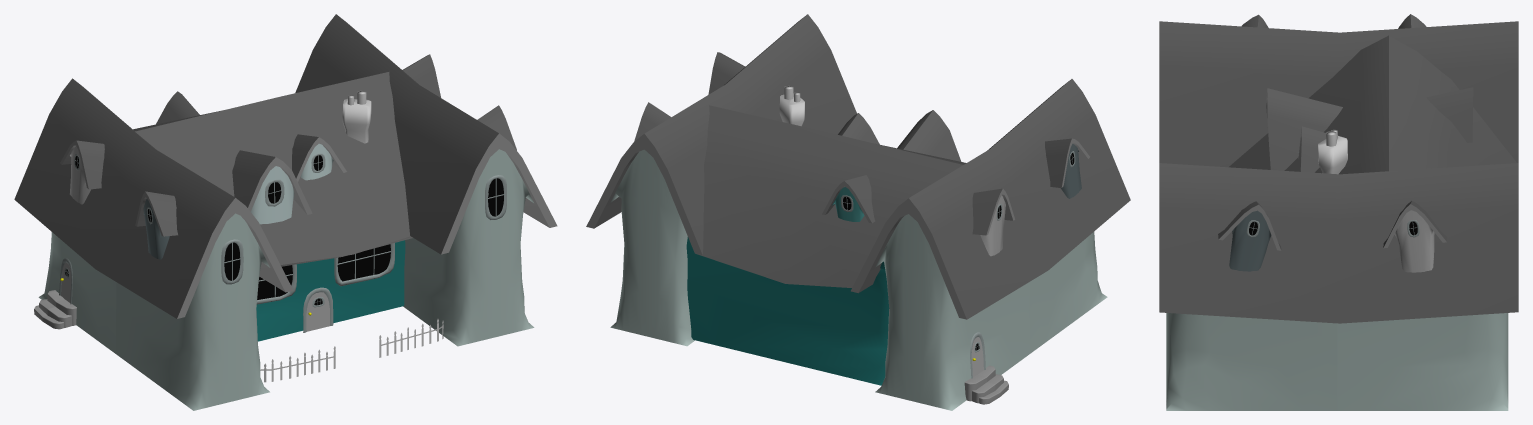
The model's file is House3.fbx.
3 renders of one model, left to right at view 1: azimuth 30°, elevation 25°; view 2: azimuth 150°, elevation 25°; view 3: azimuth 270°, elevation 25°, orthographic. The views are drawn at different scales.
Parts seen in each view (by area): view 1: polySurface231, polySurface170, polySurface171, polySurface167, polySurface169, polySurface199, polySurface255, polySurface253, polySurface154, polySurface257, polySurface173, polySurface175 (+8 smaller); view 2: polySurface231, polySurface170, polySurface169, polySurface171, polySurface167, polySurface199, polySurface257, polySurface175, polySurface154, polySurface172, polySurface255, polySurface173 (+2 smaller); view 3: polySurface171, polySurface167, polySurface231, polySurface170, polySurface199, polySurface79, polySurface77, polySurface175, polySurface154, polySurface255, polySurface173, polySurface172.
Boxes of the visible parts, x1,y1,x2,y2 form: polySurface231: (14, 78, 293, 410); polySurface170: (133, 72, 410, 264); polySurface171: (295, 14, 557, 254); polySurface167: (403, 149, 534, 346); polySurface169: (256, 240, 405, 341); polySurface199: (232, 150, 312, 224); polySurface255: (292, 134, 346, 181); polySurface253: (337, 244, 390, 281); polySurface154: (342, 90, 371, 143); polySurface257: (34, 290, 76, 329); polySurface173: (402, 54, 440, 97); polySurface175: (156, 91, 199, 124); polySurface231: (851, 79, 1130, 410); polySurface170: (695, 105, 966, 288); polySurface169: (686, 237, 889, 385); polySurface171: (586, 14, 856, 255); polySurface167: (610, 149, 694, 346); polySurface199: (897, 110, 961, 161); polySurface257: (964, 365, 1008, 404); polySurface175: (822, 175, 874, 223); polySurface154: (779, 85, 804, 126); polySurface172: (708, 52, 745, 94); polySurface255: (838, 113, 879, 144); polySurface173: (634, 102, 670, 141); polySurface171: (1159, 163, 1518, 323); polySurface167: (1166, 313, 1508, 410); polySurface231: (1159, 14, 1518, 167); polySurface170: (1229, 35, 1516, 174); polySurface199: (1266, 88, 1342, 170); polySurface79: (1394, 210, 1434, 272); polySurface77: (1229, 210, 1271, 271); polySurface175: (1426, 87, 1473, 142); polySurface154: (1318, 129, 1347, 174); polySurface255: (1298, 126, 1326, 172); polySurface173: (1383, 201, 1447, 248); polySurface172: (1218, 201, 1281, 250).
Bounding box in the file's own units: 35.59 × 18.66 × 26.26.
